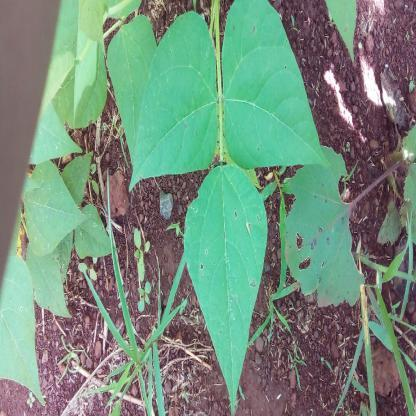Beans_Angular_LeafSpot: (184, 169, 266, 414), (220, 0, 322, 166), (284, 163, 361, 315)
